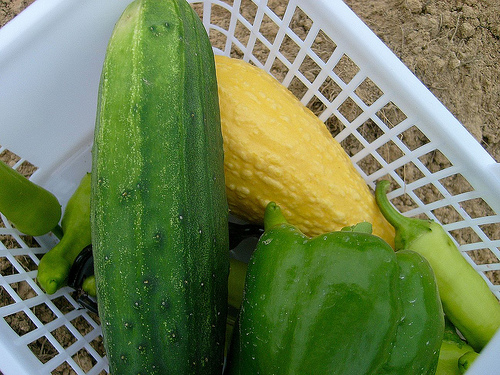cucumber: (86, 0, 233, 374)
